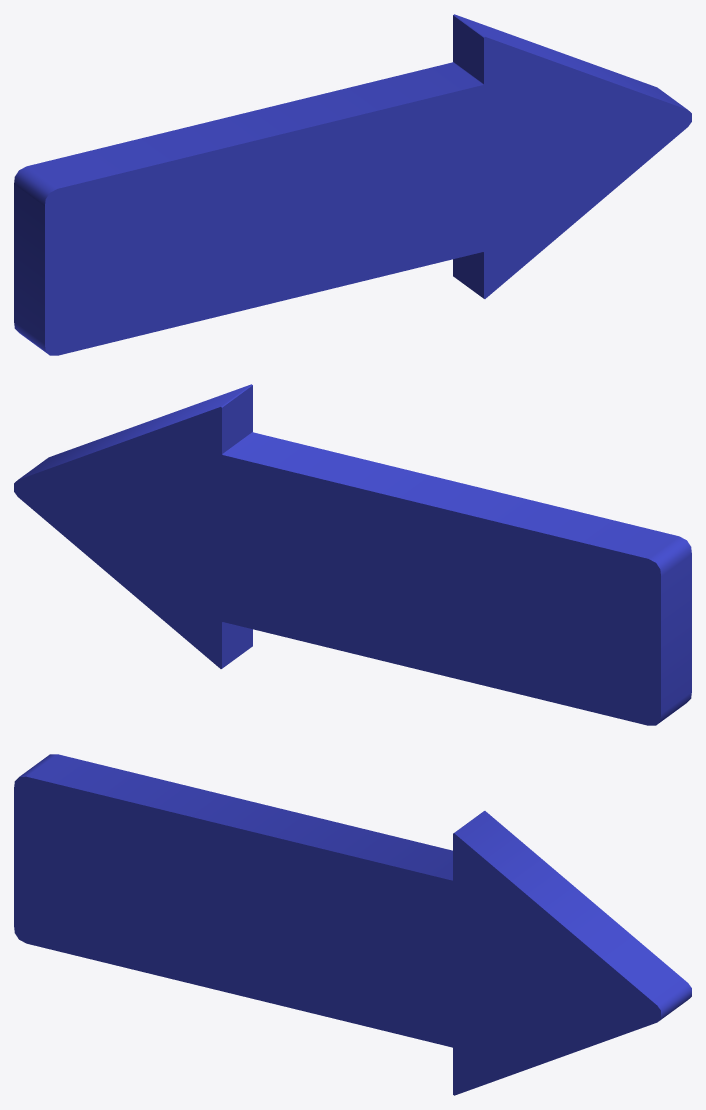
The model's file is arrow.gltf.
3 views of the same model, one above another, from view 1: azimuth 30°, elevation 25°; view 2: azimuth 150°, elevation 25°; view 3: azimuth 330°, elevation 25° (orthographic).
Parts seen in each view (by area): view 1: node_id3; view 2: node_id3; view 3: node_id3.
Part boxes in pixels (x1=…): node_id3: x1=14, y1=14, x2=691, y2=355; node_id3: x1=14, y1=384, x2=691, y2=725; node_id3: x1=14, y1=754, x2=691, y2=1095.
Size of the model in its own units: 0.5153 by 0.1998 by 0.0425.
1 material, 1 textured.
